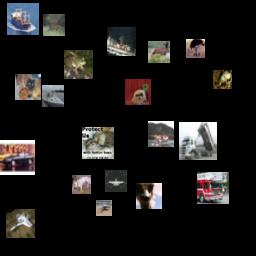airplane: (6, 209, 35, 238), (148, 121, 174, 147), (105, 170, 127, 192), (96, 200, 112, 216)
automobile: (0, 140, 35, 175)
bird: (136, 183, 162, 209), (186, 39, 205, 58)
cat: (82, 127, 114, 159), (15, 74, 41, 100)
deer: (43, 14, 65, 36), (148, 41, 170, 63)
dog: (125, 79, 151, 105), (72, 175, 91, 194)
frog: (64, 50, 93, 79), (213, 70, 232, 89)
ship: (7, 3, 39, 35), (107, 27, 136, 56), (42, 85, 64, 107)
truck: (179, 122, 217, 160), (197, 172, 229, 204)
